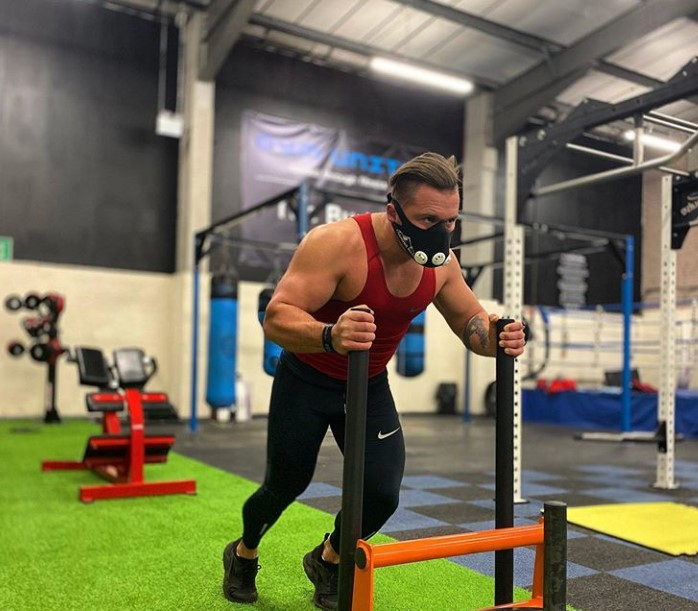face_with_mask: (385, 151, 462, 269)
